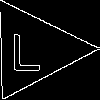L: (9, 24, 42, 71)
